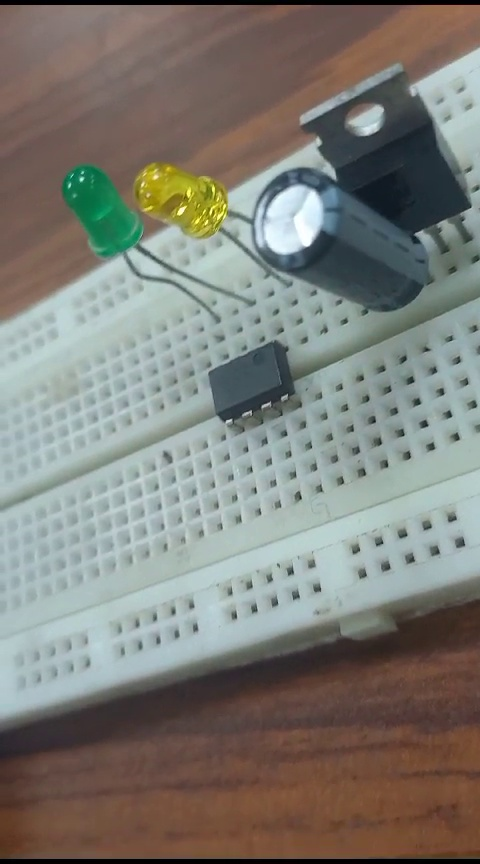IC: (192, 343, 308, 413)
LED: (47, 149, 142, 267), (126, 167, 242, 251)
capacitor: (248, 167, 418, 316)
voltage regulator: (310, 57, 472, 224)
